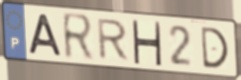2: (168, 24, 194, 68)
A: (27, 12, 64, 58)
D: (199, 25, 231, 70)
H: (130, 18, 163, 68)
R: (60, 11, 96, 64), (96, 17, 131, 63)
